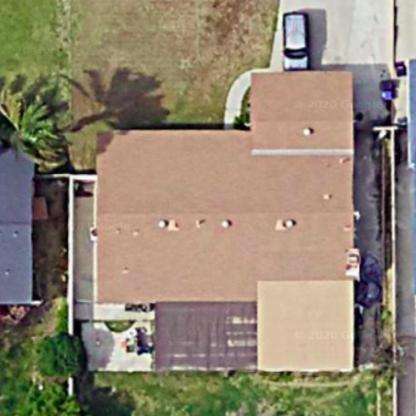car: (279, 2, 314, 74)
